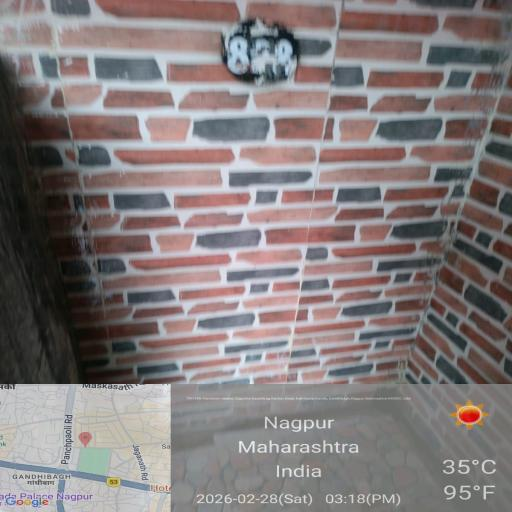clean_floor: (24, 20, 459, 480)
